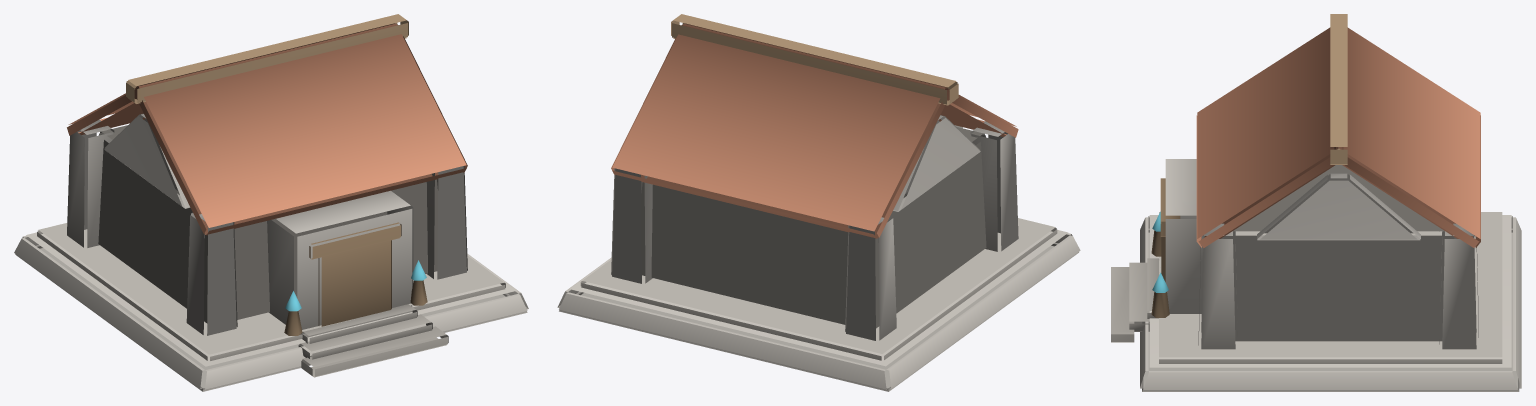
Rendered from core_archive_townhall_lv0_lod2.glb.
3 renders of one model, left to right at view 1: azimuth 30°, elevation 25°; view 2: azimuth 150°, elevation 25°; view 3: azimuth 270°, elevation 25°, orthographic.
Parts seen in each view (by area): view 1: core_archive_townhall_lv0.001; view 2: core_archive_townhall_lv0.001; view 3: core_archive_townhall_lv0.001.
Boxes of the visible parts, x1,y1,x2,y2 form: core_archive_townhall_lv0.001: (14, 14, 528, 391); core_archive_townhall_lv0.001: (557, 14, 1080, 391); core_archive_townhall_lv0.001: (1111, 14, 1521, 391).
Size of the model in its own units: 4.62 by 3.1 by 4.99.
